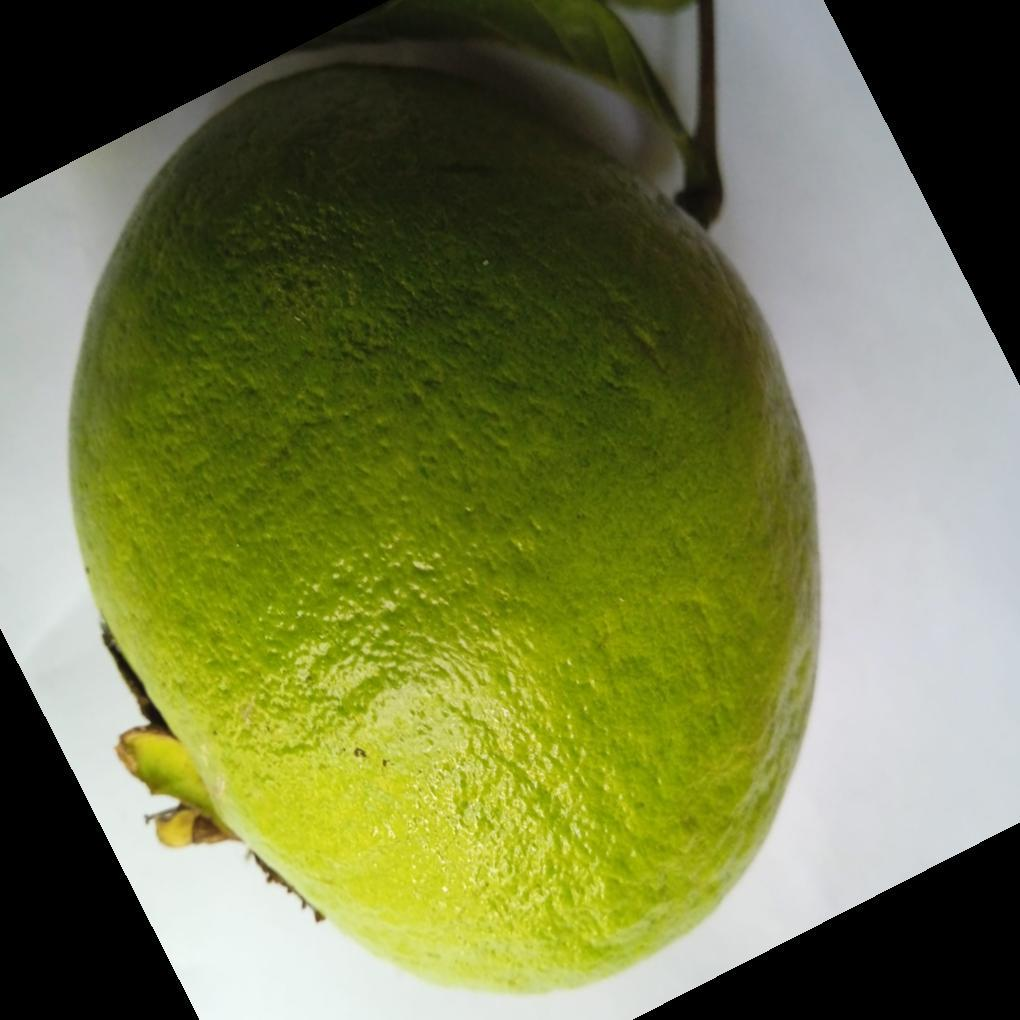FreshGuava: (66, 47, 824, 1001)
